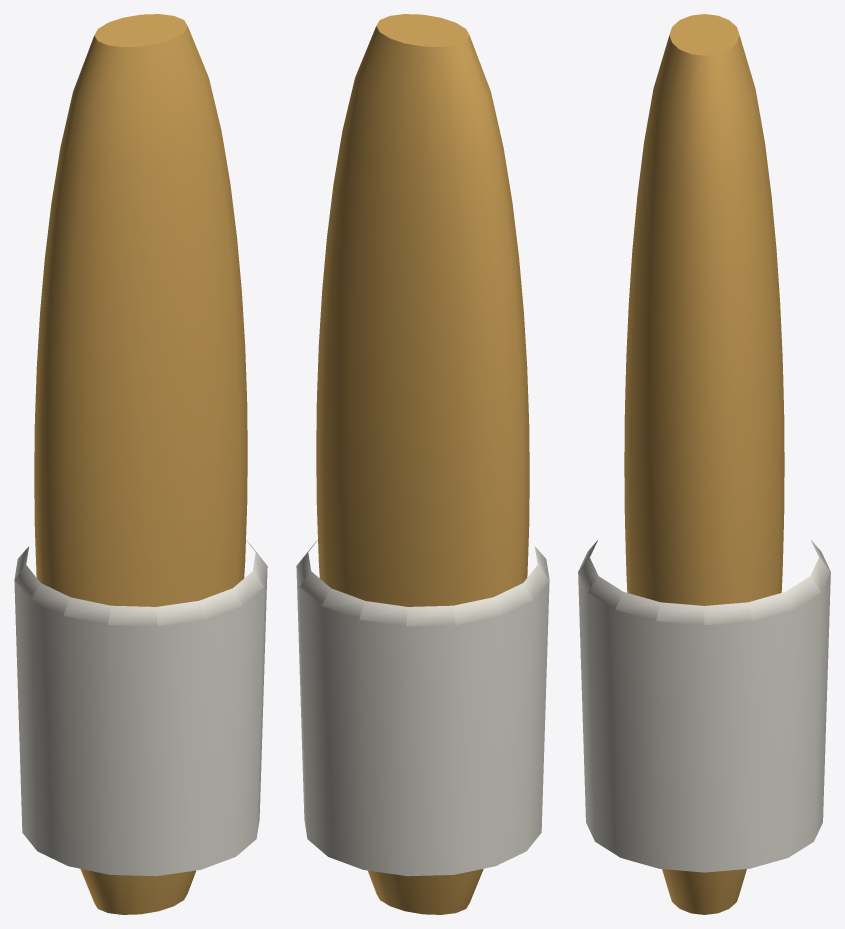
File: banh_mi.glb
The picture shows the model from 3 angles, left to right: view 1: azimuth 30°, elevation 25°; view 2: azimuth 150°, elevation 25°; view 3: azimuth 270°, elevation 25°; orthographic projection.
Visible parts, largest first — view 1: banh_mi; view 2: banh_mi; view 3: banh_mi.
Boxes of the visible parts, bbox=[...] form: banh_mi: bbox=[14, 14, 267, 914]; banh_mi: bbox=[296, 14, 549, 914]; banh_mi: bbox=[578, 14, 830, 914].
Size of the model in its own units: 0.064 by 0.24 by 0.064.
